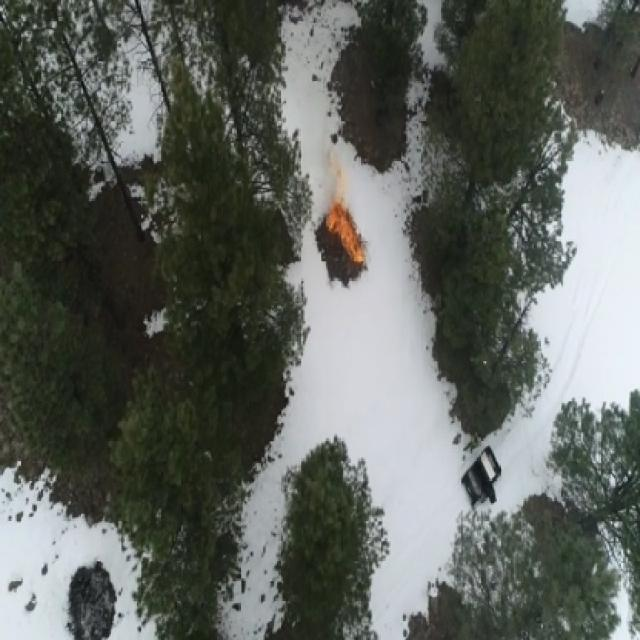Fire: (323, 143, 368, 268)
